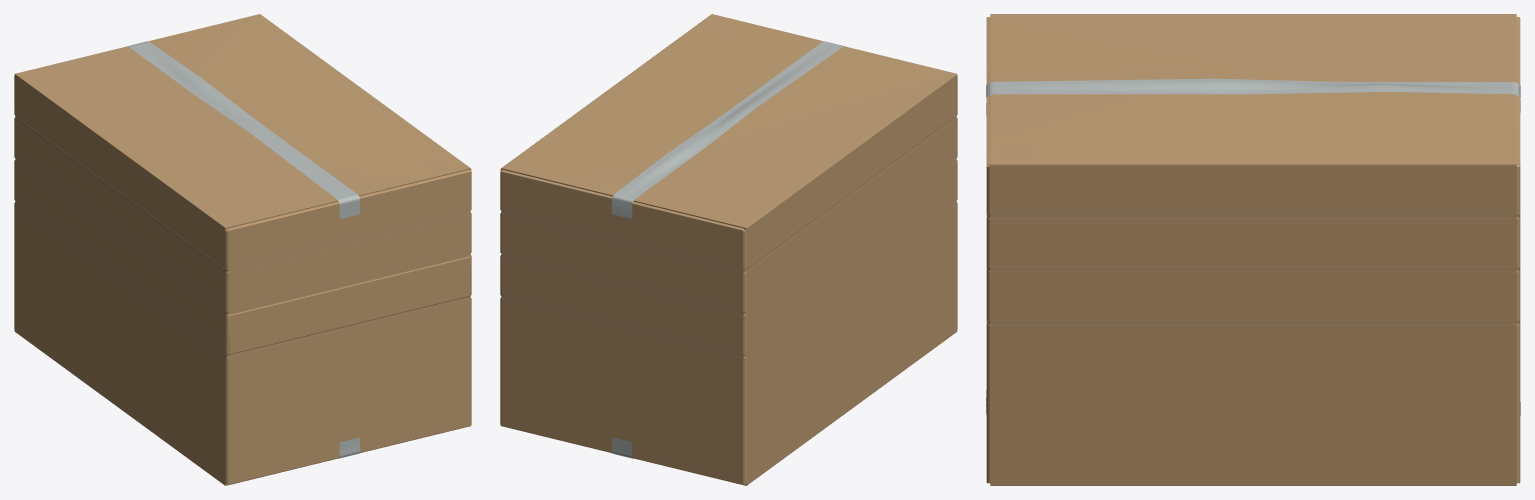
File: box_multiDepth_a10.glb
3 renders of one model, left to right at view 1: azimuth 30°, elevation 25°; view 2: azimuth 150°, elevation 25°; view 3: azimuth 270°, elevation 25°, orthographic. The views are drawn at different scales.
Size of the model in its own units: 0.3044 by 0.3091 by 0.458.
